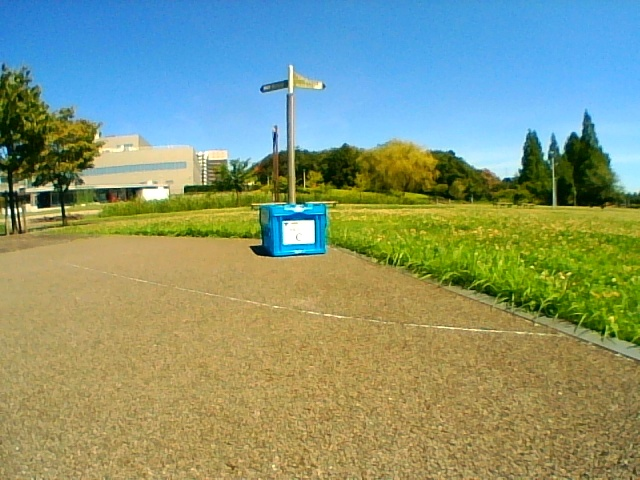blue_box: (260, 205, 325, 256)
tag: (284, 221, 312, 243)
